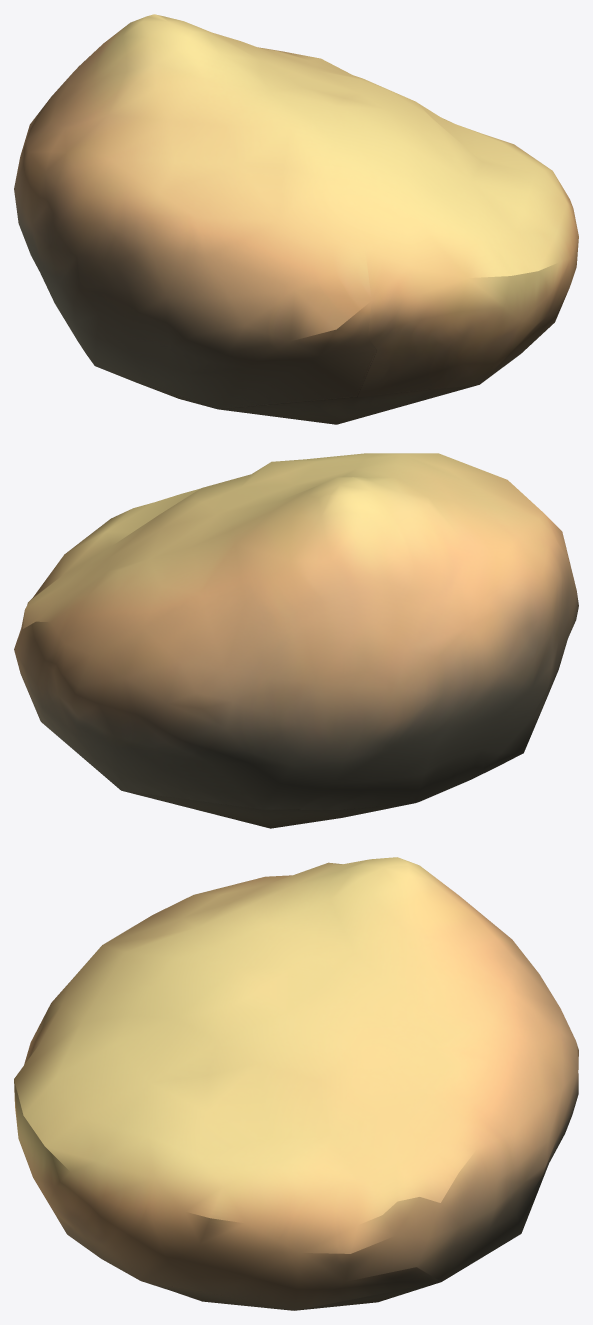
Rendered from Bw_mayo.obj.
3 views of the same model, one above another, from view 1: azimuth 30°, elevation 25°; view 2: azimuth 150°, elevation 25°; view 3: azimuth 270°, elevation 25° (orthographic).
Visible parts, largest first — view 1: bw.mayo; view 2: bw.mayo; view 3: bw.mayo.
Part boxes in pixels (x1,y1,x2,y2): bw.mayo: (14,14,578,424); bw.mayo: (14,453,578,828); bw.mayo: (14,857,578,1310).
Bounding box in the file's own units: 0.0595 × 0.0417 × 0.0592.
